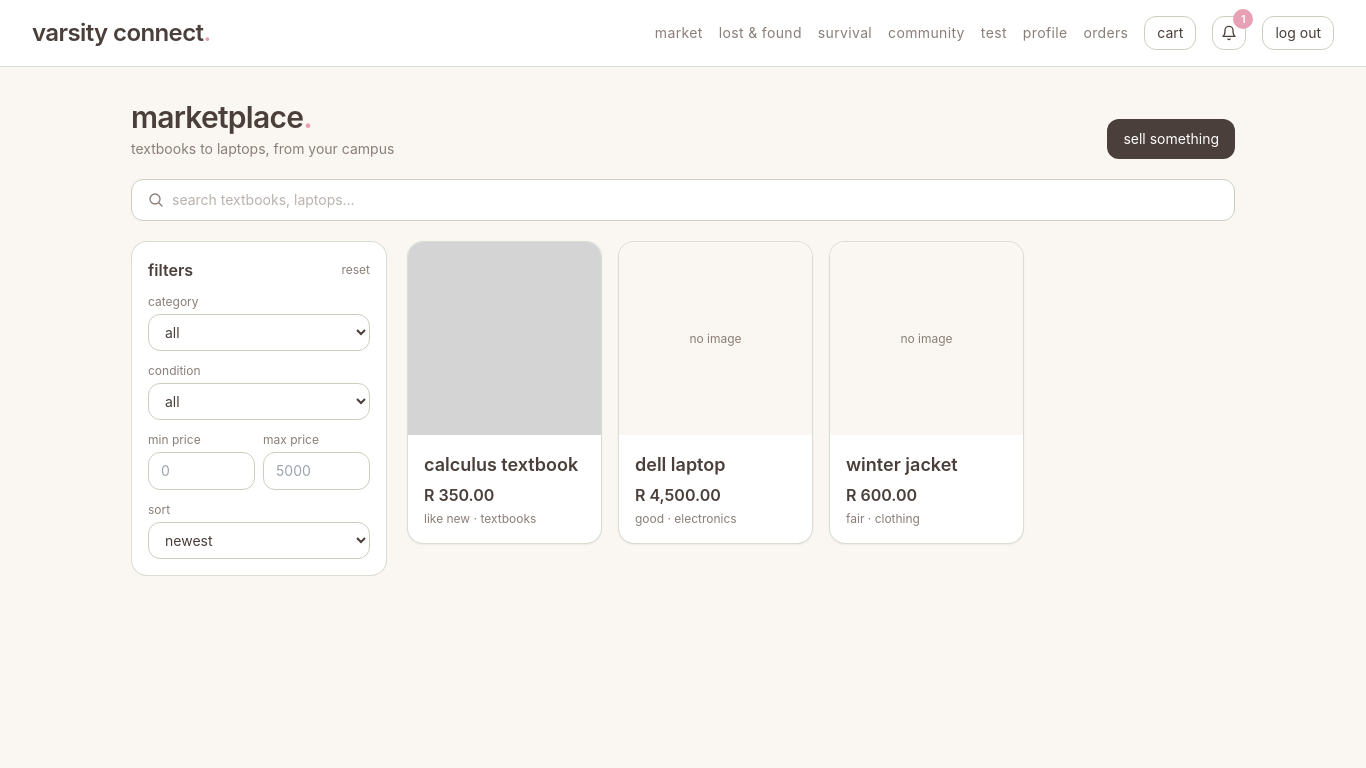
Test: marketplace page › shows the empty state with a working reset
Check: the text "calculus textbook" is shown, box [424,451,585,479]
In the search field named "search listings": (695, 200) [172,190,1218,210], type "zzz-no-match"
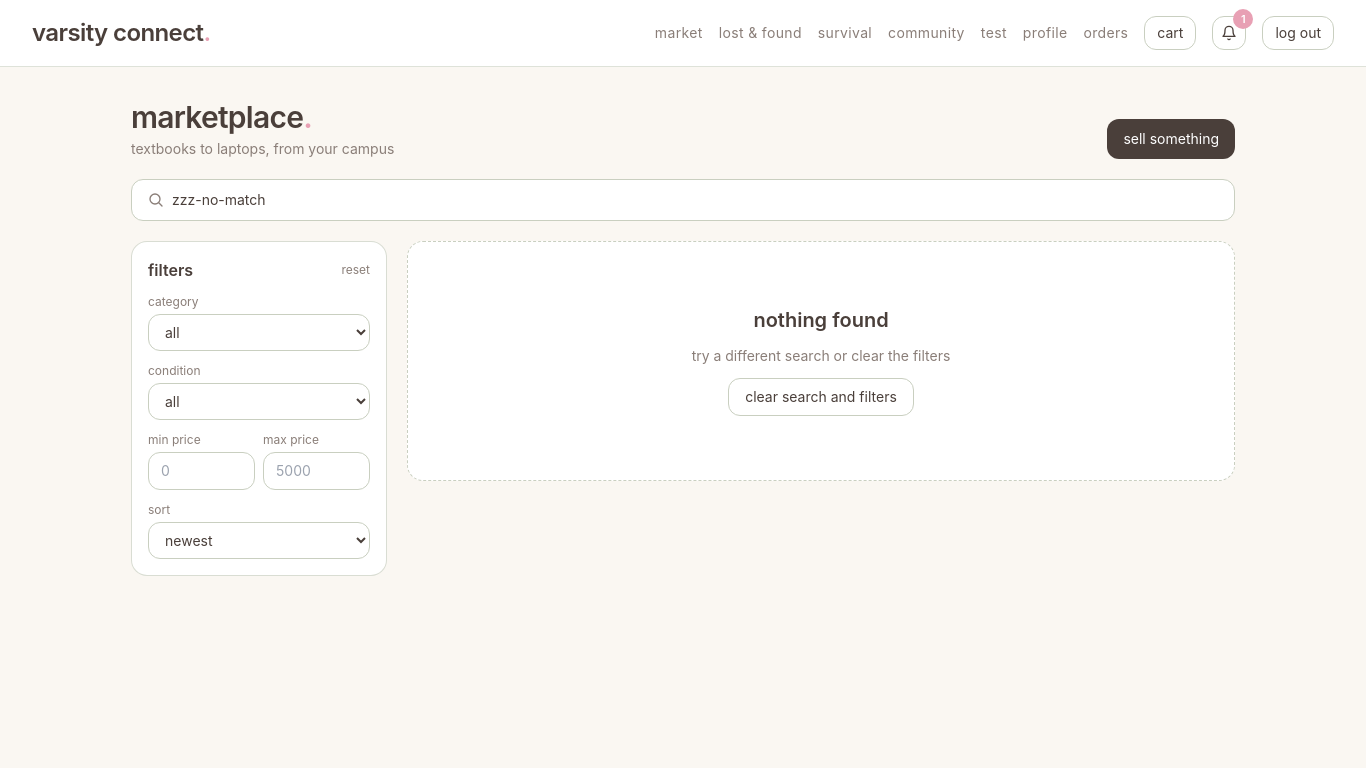
Check: the text "nothing found" is shown, box [753,306,889,334]
Click the button "clear search and filters": (821, 397) [728,378,914,416]
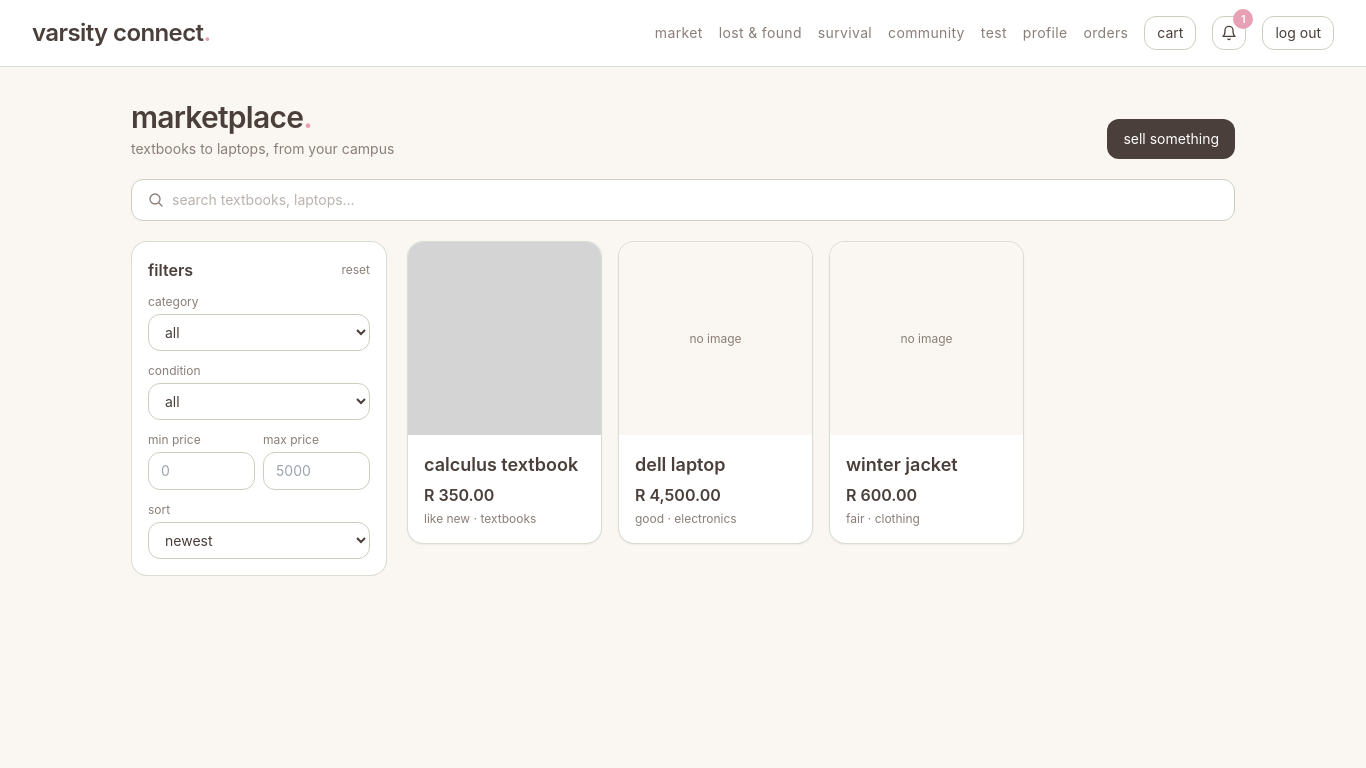
Check: the text "calculus textbook" is shown, box [424,451,585,479]
